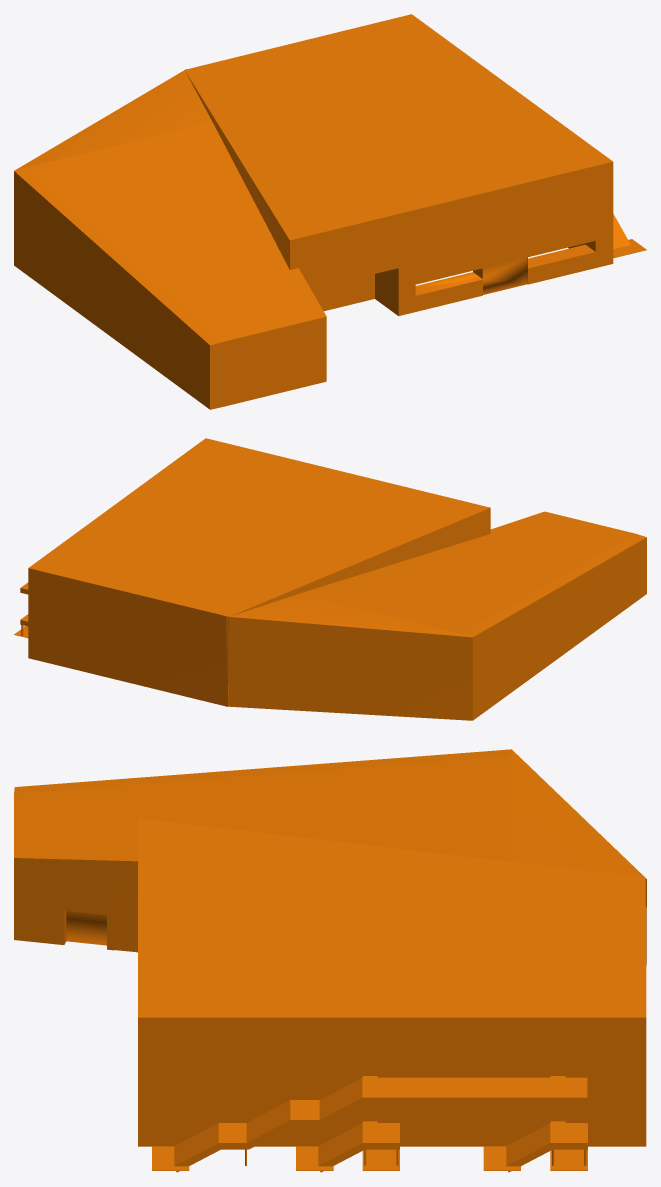
Rendered from Alleta_Jacobson_Hall.fbx.
The picture shows the model from 3 angles, top to bottom: view 1: azimuth 30°, elevation 25°; view 2: azimuth 150°, elevation 25°; view 3: azimuth 270°, elevation 25°; orthographic projection. The views are drawn at different scales.
Parts seen in each view (by area): view 1: Main building; view 2: Main building; view 3: Main building, Single staircase.
Part boxes in pixels (left/top/right/bottom): Main building: left=14, top=14, right=646, bottom=409; Main building: left=20, top=438, right=646, bottom=720; Main building: left=14, top=749, right=646, bottom=1172; Single staircase: left=483, top=1122, right=587, bottom=1172.
Size of the model in its own units: 188 by 39.16 by 166.
